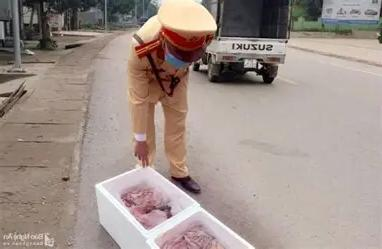ROAD_OBSTACLE: (94, 160, 200, 242), (147, 200, 257, 249)
